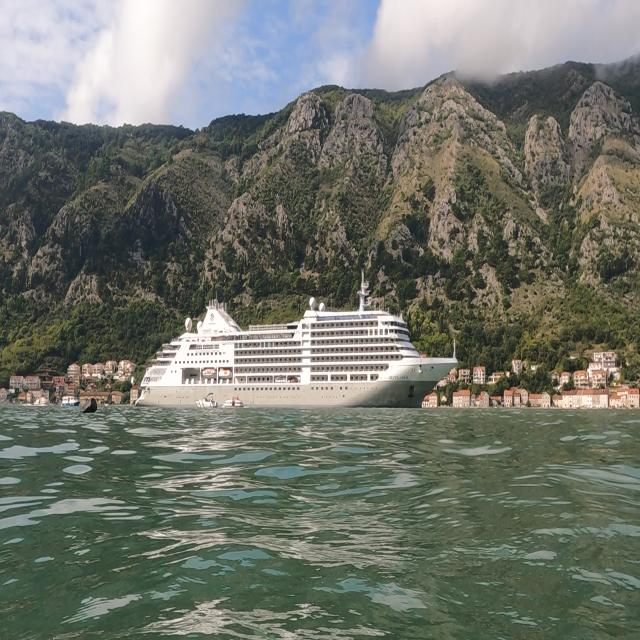boat: (131, 265, 460, 411)
buoy: (78, 391, 103, 426)
